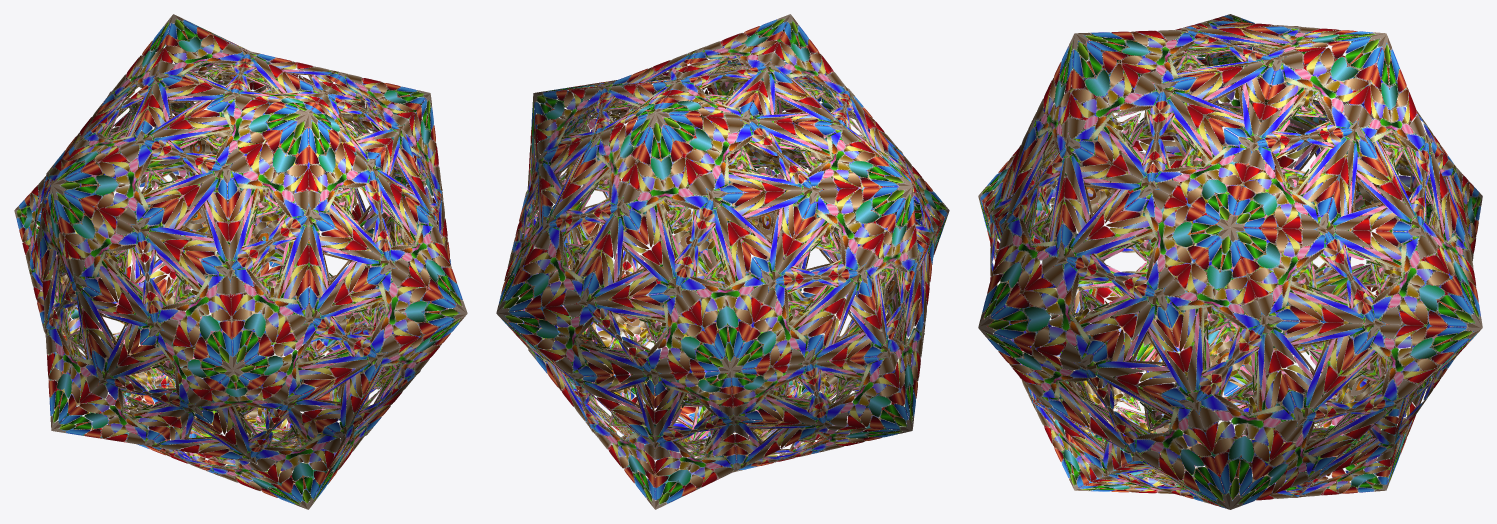
The model's file is MedialPentagonalHexecontahedron15.gltf.
The picture shows the model from 3 angles, left to right: view 1: azimuth 30°, elevation 25°; view 2: azimuth 150°, elevation 25°; view 3: azimuth 270°, elevation 25°; orthographic projection. The views are drawn at different scales.
Visible parts, largest first — view 1: MedialPentagonalHexecontahedron15; view 2: MedialPentagonalHexecontahedron15; view 3: MedialPentagonalHexecontahedron15.
Part boxes in pixels (x1,y1,x2,y2): MedialPentagonalHexecontahedron15: (14, 14, 467, 509); MedialPentagonalHexecontahedron15: (496, 14, 949, 509); MedialPentagonalHexecontahedron15: (978, 14, 1482, 509).
Size of the model in its own units: 2.46 by 2.46 by 2.46.
Materials: 1 (1 with a texture image).
